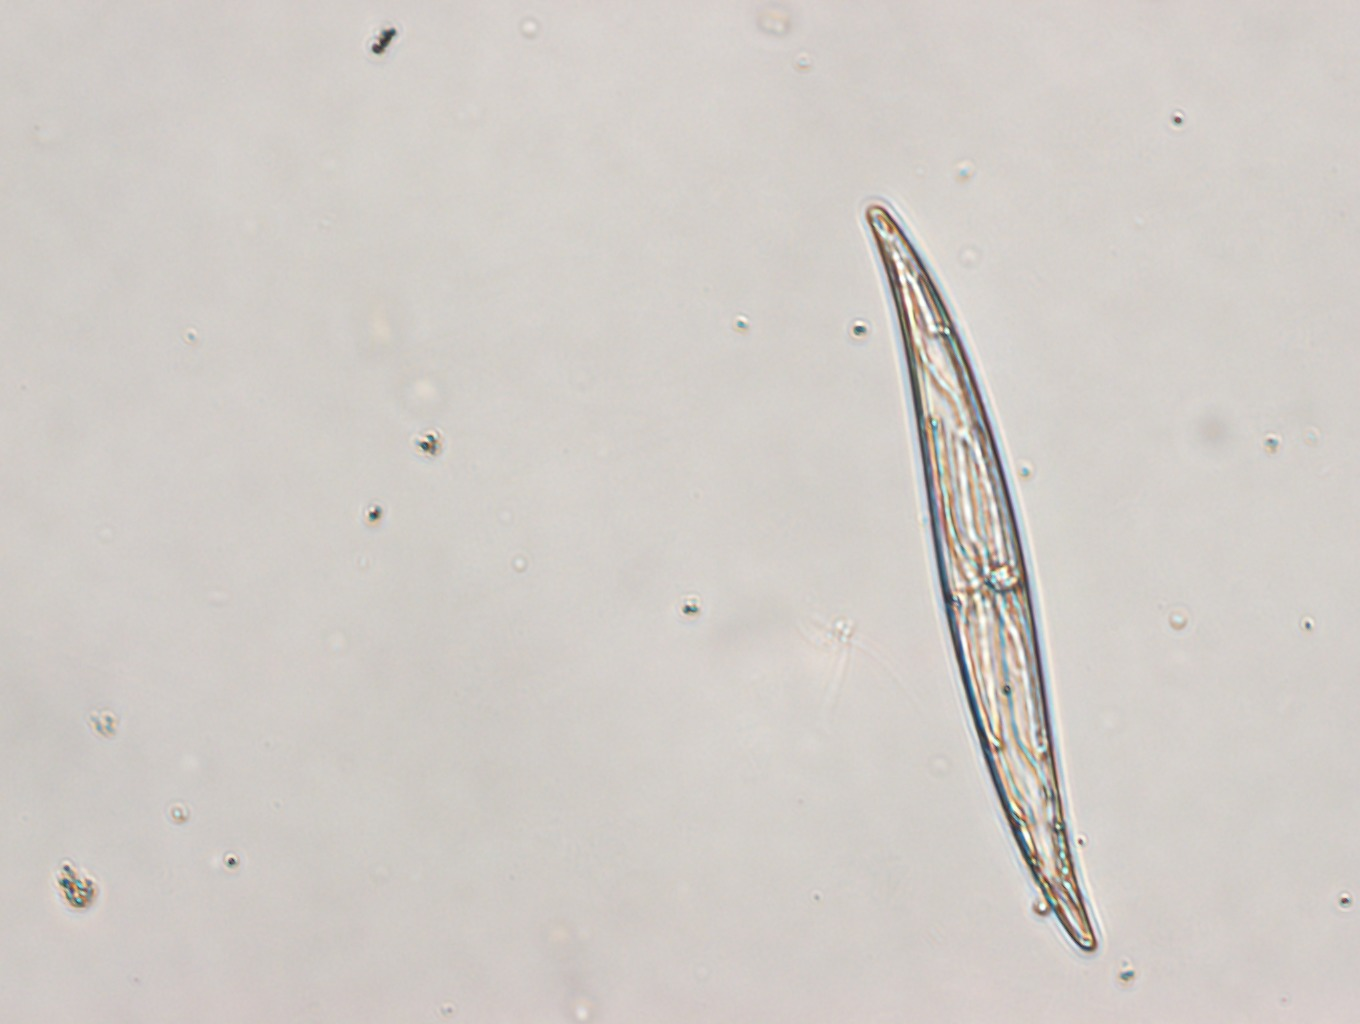pleurosigma pelagicum: (849, 187, 1107, 973)
